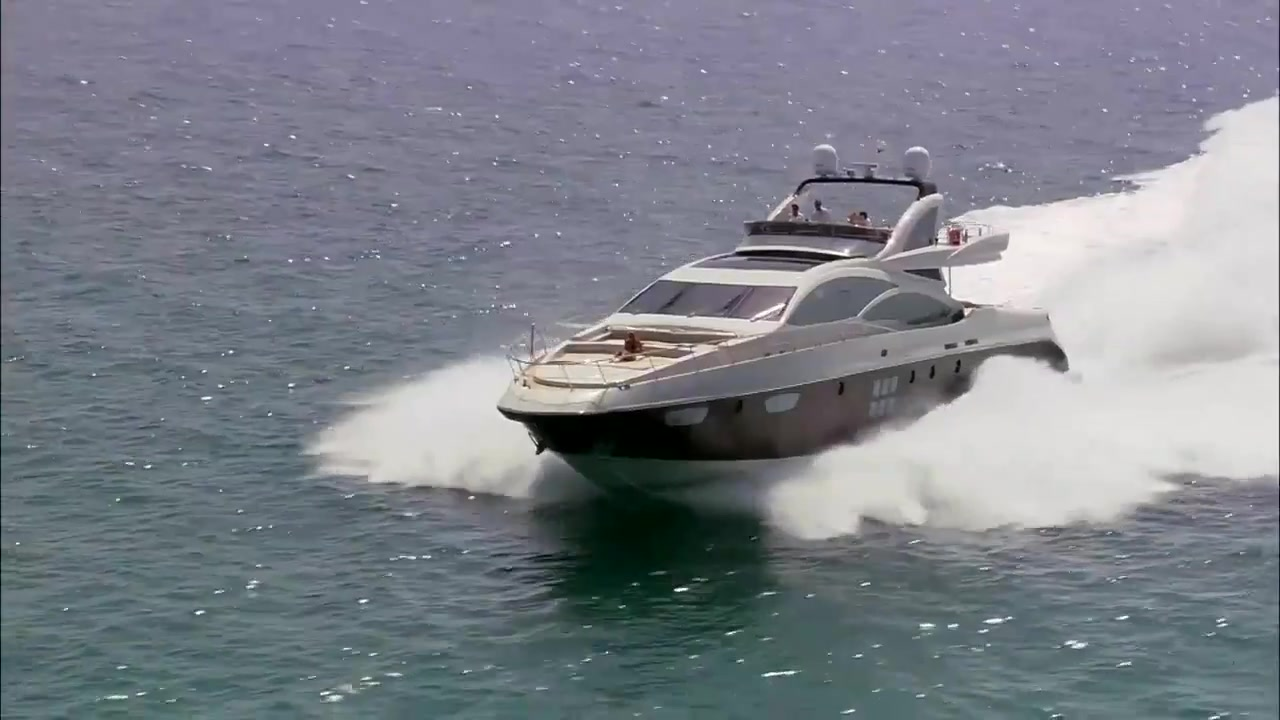boat: (497, 144, 1096, 495)
